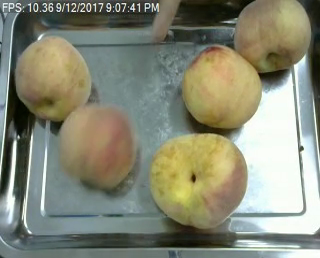Peach: (149, 132, 247, 230), (13, 34, 91, 123), (59, 103, 135, 190), (180, 46, 259, 129), (233, 0, 311, 73)
